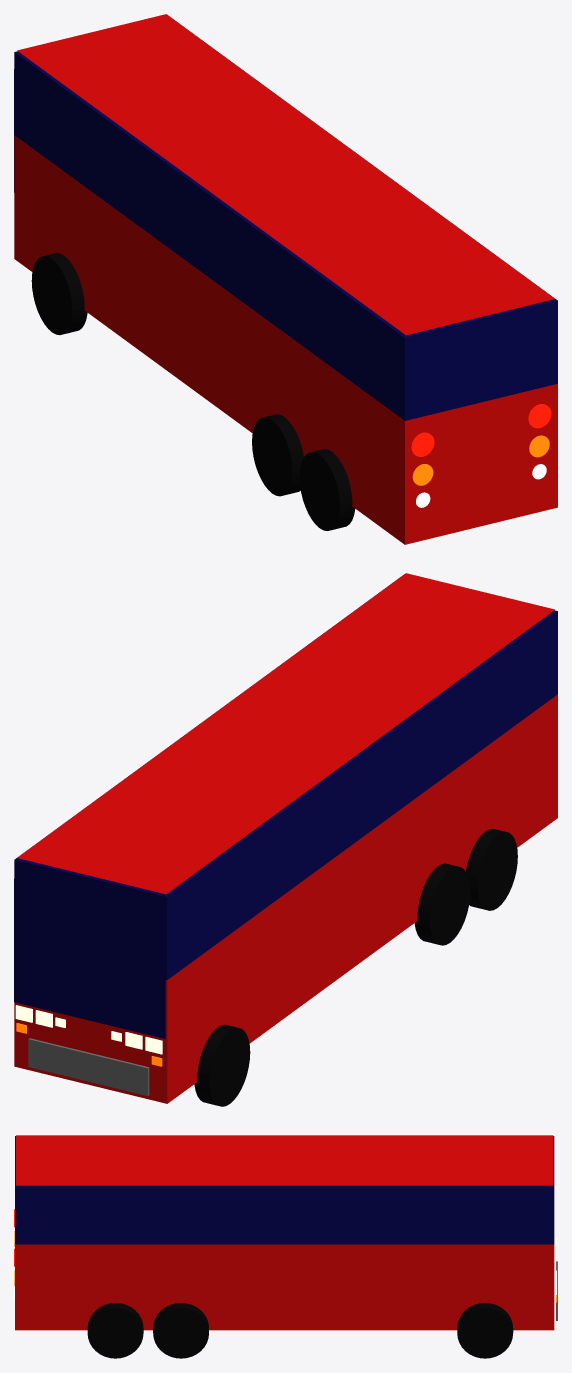
Rendered from new bus 1.fbx.
3 views of the same model, one above another, from view 1: azimuth 30°, elevation 25°; view 2: azimuth 150°, elevation 25°; view 3: azimuth 270°, elevation 25° (orthographic). The views are drawn at different scales.
Visible parts, largest first — view 1: Cube.005, Plane.014, Cube.006, Circle.026, Circle.024, Circle.028; view 2: Plane.014, Cube.005, Cube.006, Plane.015, Plane.027, Circle.028, Circle.024, Circle.026; view 3: Cube.005, Cube.006, Plane.014, Circle.027, Circle.025, Circle.029.
Part boxes in pixels (<box>): Cube.005: <box>14,135,557,544</box>; Plane.014: <box>17,14,554,335</box>; Cube.006: <box>14,16,557,420</box>; Circle.026: <box>299,449,355,530</box>; Circle.024: <box>31,253,87,335</box>; Circle.028: <box>252,414,303,496</box>; Plane.014: <box>17,573,554,894</box>; Cube.005: <box>14,694,557,1103</box>; Cube.006: <box>14,574,557,979</box>; Plane.015: <box>14,878,165,1038</box>; Plane.027: <box>28,1038,149,1095</box>; Circle.028: <box>414,863,470,945</box>; Circle.024: <box>194,1024,250,1106</box>; Circle.026: <box>466,828,517,910</box>; Cube.005: <box>15,1244,554,1330</box>; Cube.006: <box>15,1136,554,1244</box>; Plane.014: <box>16,1135,553,1185</box>; Circle.027: <box>87,1303,143,1358</box>; Circle.025: <box>457,1303,513,1358</box>; Circle.029: <box>153,1303,208,1358</box>.
Bounding box in the file's own units: 314 × 403 × 1188.
